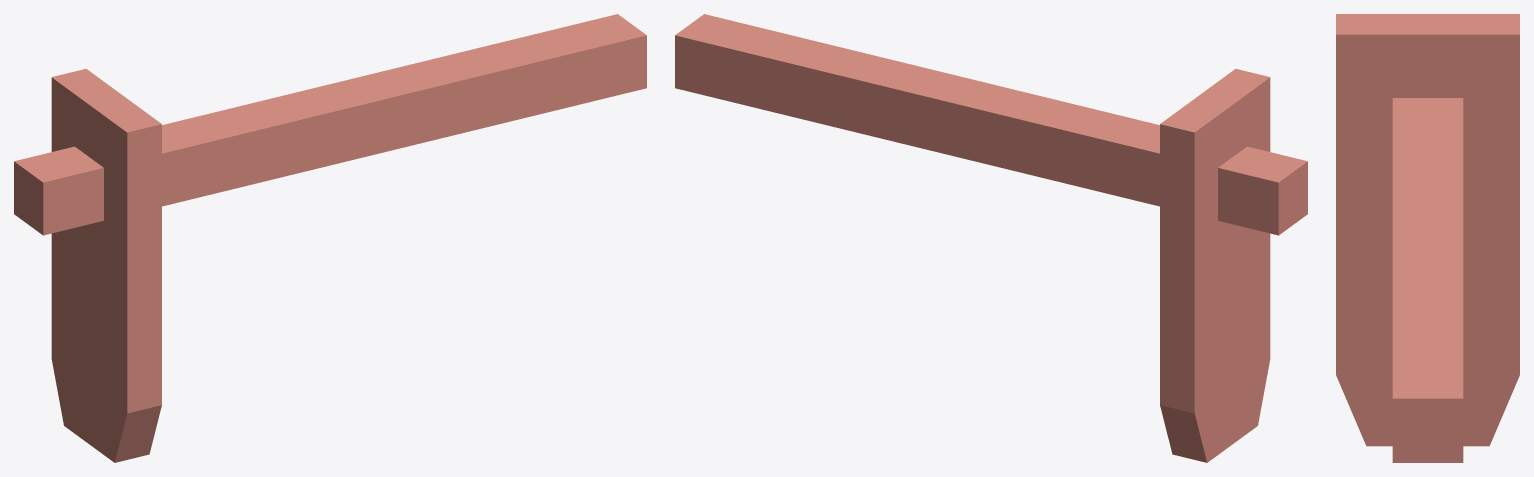
The model's file is Pickaxe.fbx.
The picture shows the model from 3 angles, left to right: view 1: azimuth 30°, elevation 25°; view 2: azimuth 150°, elevation 25°; view 3: azimuth 270°, elevation 25°; orthographic projection. The views are drawn at different scales.
Parts seen in each view (by area): view 1: Pickaxe; view 2: Pickaxe; view 3: Pickaxe.
Part boxes in pixels (<box>): Pickaxe: <box>14,14,646,462</box>; Pickaxe: <box>675,14,1307,462</box>; Pickaxe: <box>1336,14,1519,462</box>.
Size of the model in its own units: 59.86 by 32.16 by 13.
